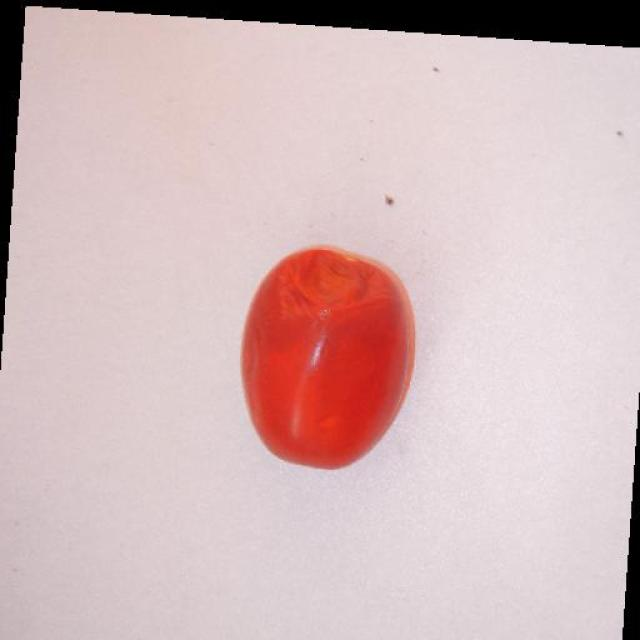Stale_tomato: (238, 233, 407, 342)
